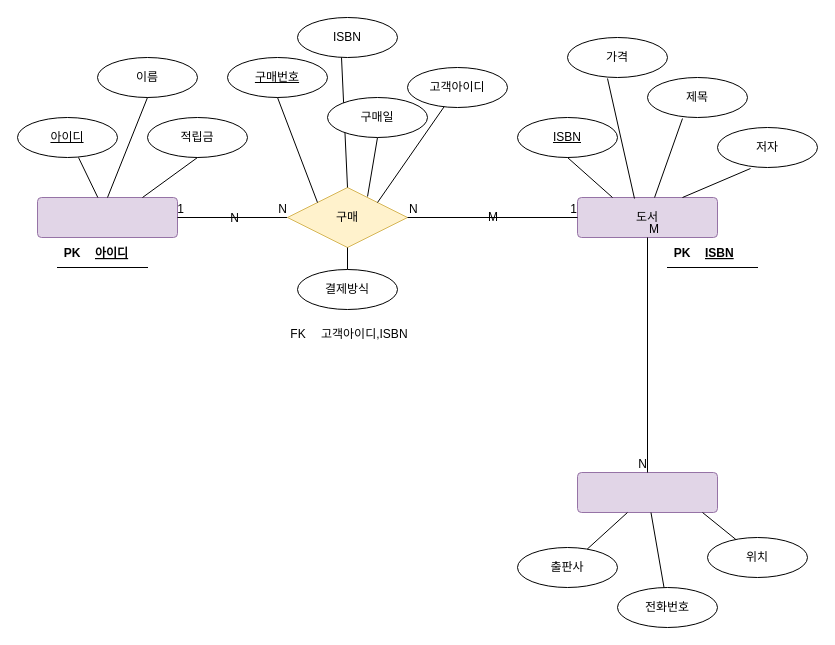
The diagram is 835 pixels wide and 645 high, and some of its shapes have lost their labels. The shapes that lost their labels are listed below. From the top down, each one's centre as x and y in pixels, then its label:
(x=107, y=217): 고객
(x=647, y=492): 공급처
